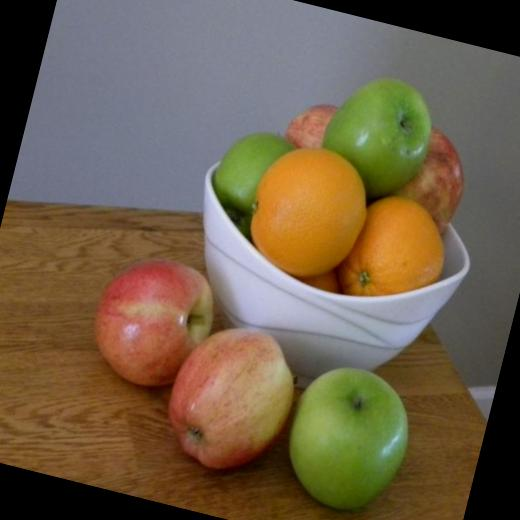Apple: (154, 311, 307, 484), (273, 354, 425, 520), (79, 245, 224, 401), (310, 67, 444, 211), (201, 121, 297, 242), (393, 121, 479, 238), (280, 92, 340, 156)
Grape: (239, 133, 377, 281), (337, 184, 462, 318)
